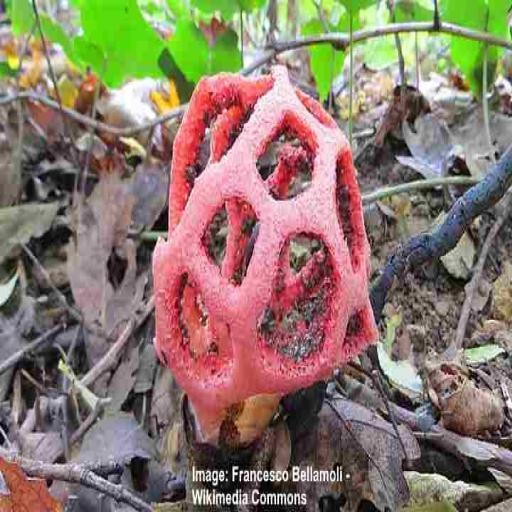mushroom: (132, 59, 386, 469)
